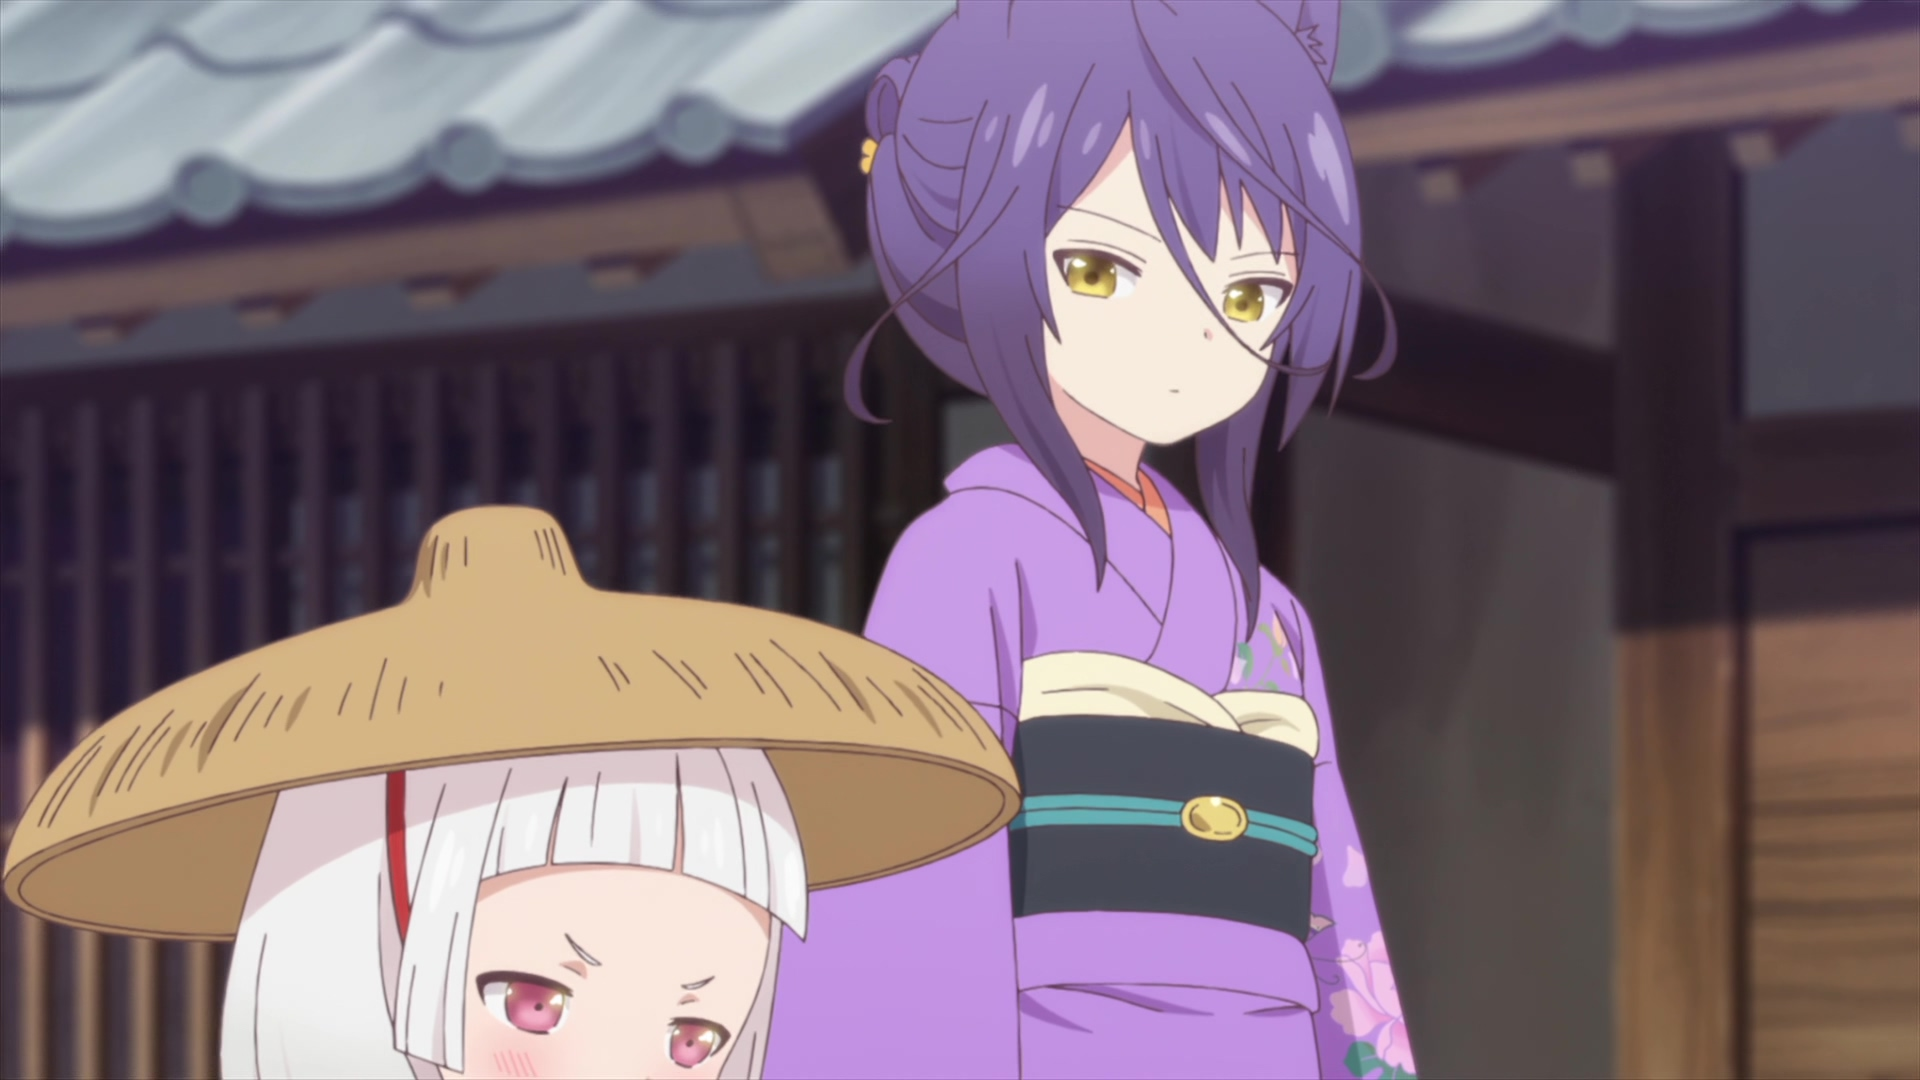其他: (1, 504, 1019, 1080)
皋: (764, 1, 1412, 1080)
